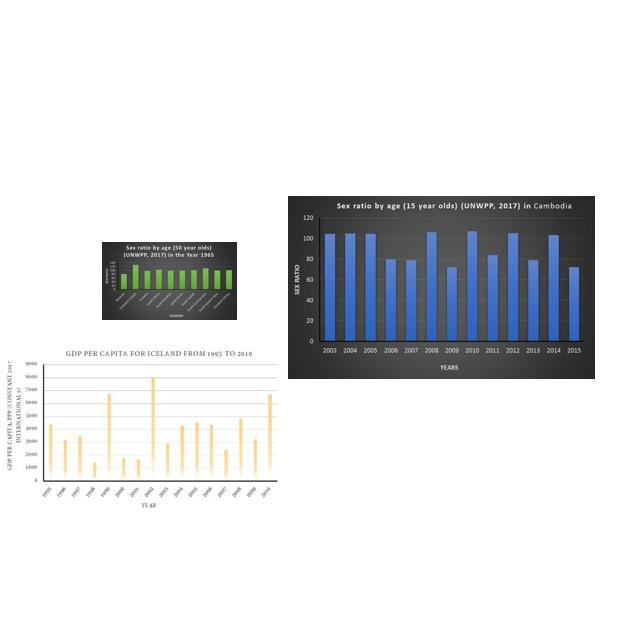Graph: (288, 196, 595, 379), (3, 347, 282, 511), (102, 242, 237, 320)
